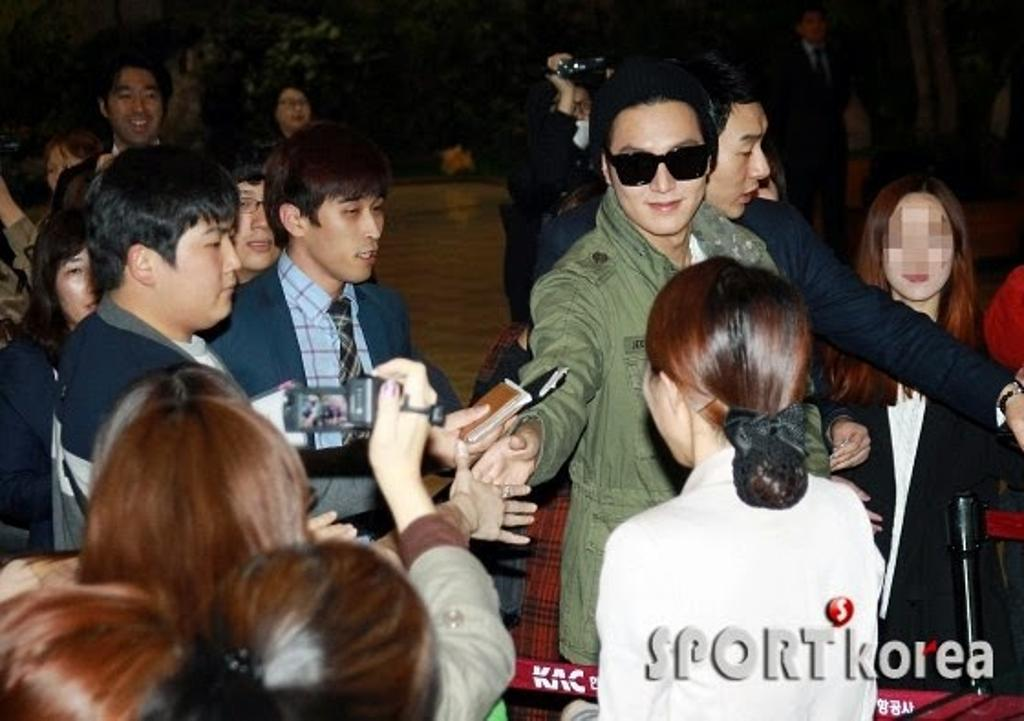face: (612, 111, 708, 236), (882, 196, 952, 301), (177, 218, 241, 327), (709, 105, 769, 217), (313, 193, 384, 282), (221, 181, 288, 269), (57, 254, 117, 318), (112, 71, 158, 144), (46, 146, 86, 196), (277, 91, 309, 128)
